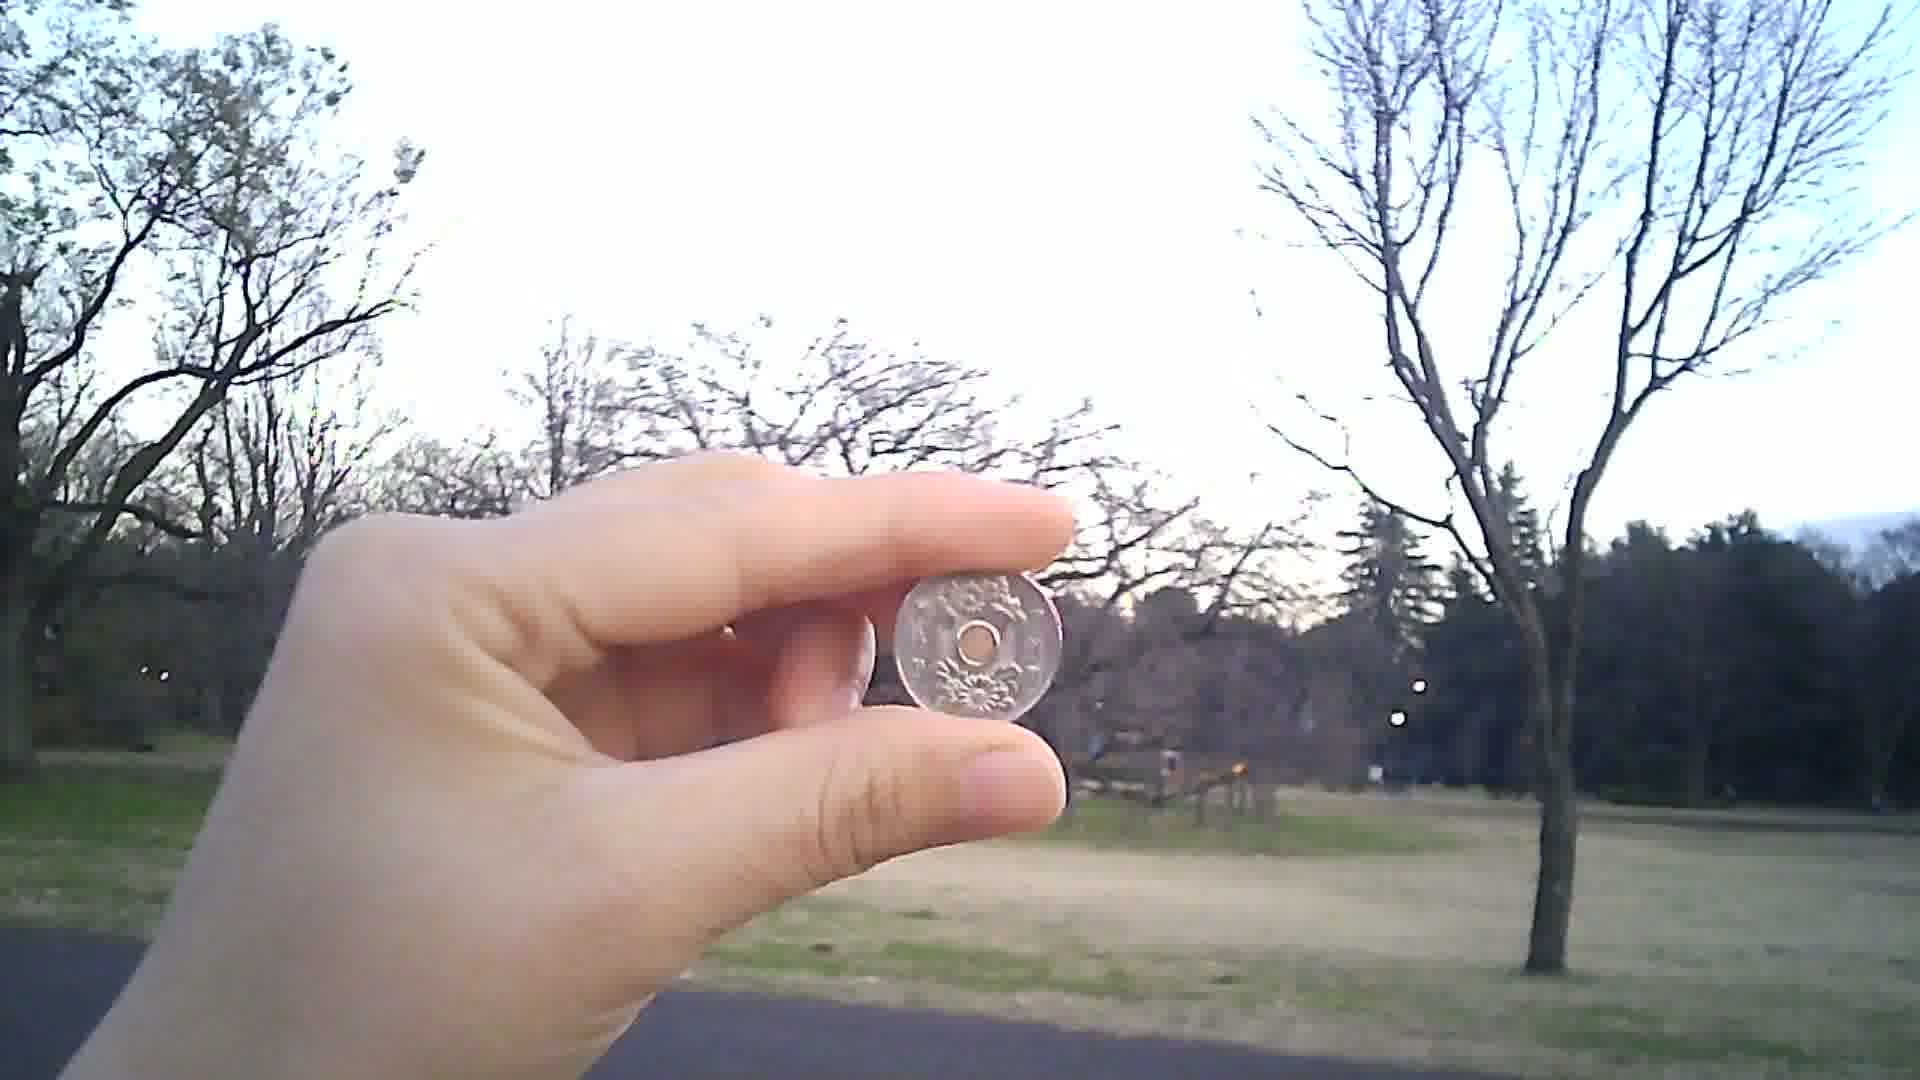50 Yen: (889, 555, 1059, 731)
